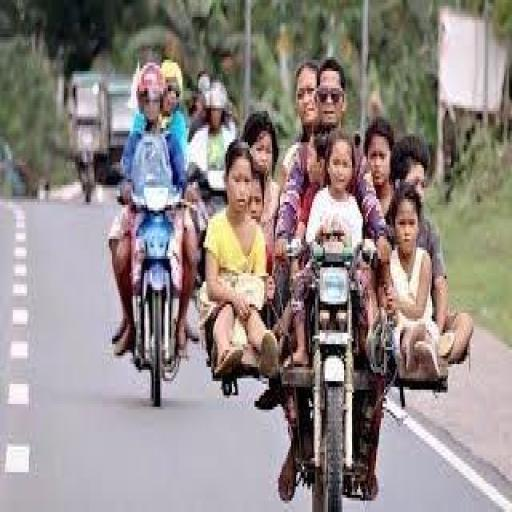no helmet: (308, 65, 369, 135)
triple riding: (211, 68, 458, 495)
